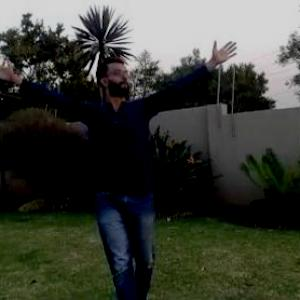takeoff: (1, 39, 234, 287)
